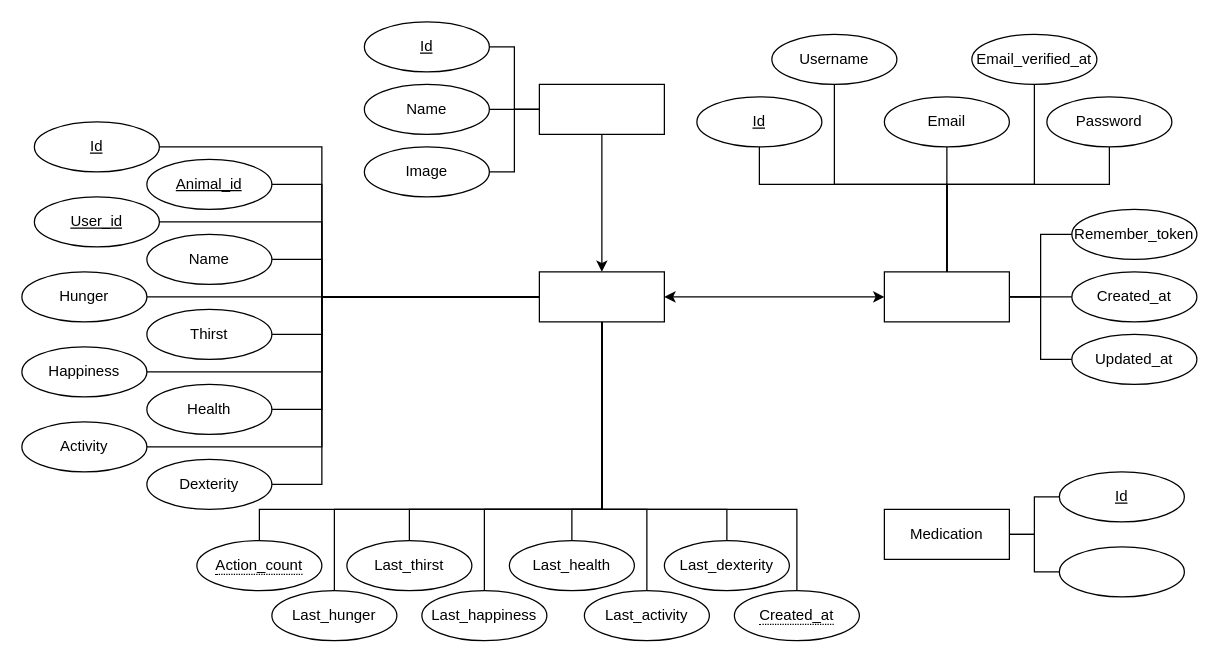
The diagram is 1219 pixels wide and 663 high, and some of its shapes have lost their labels. The shapes that lost their labels are listed below. From the top down, each one's centre as x and y in pixels, then its label:
At [601,108]: "Animal".
At [601,296]: "AnimalStat".
At [946,296]: "Users".
At [1121,571]: "Medications".
